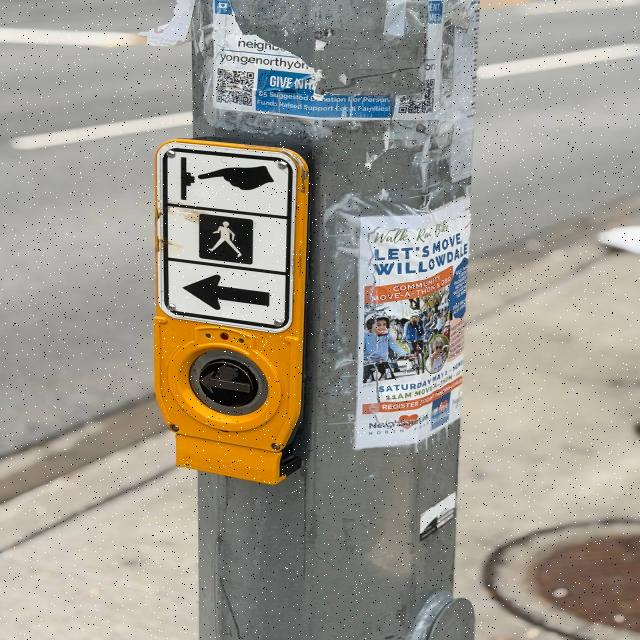Electrical Pole: (148, 2, 490, 640)
